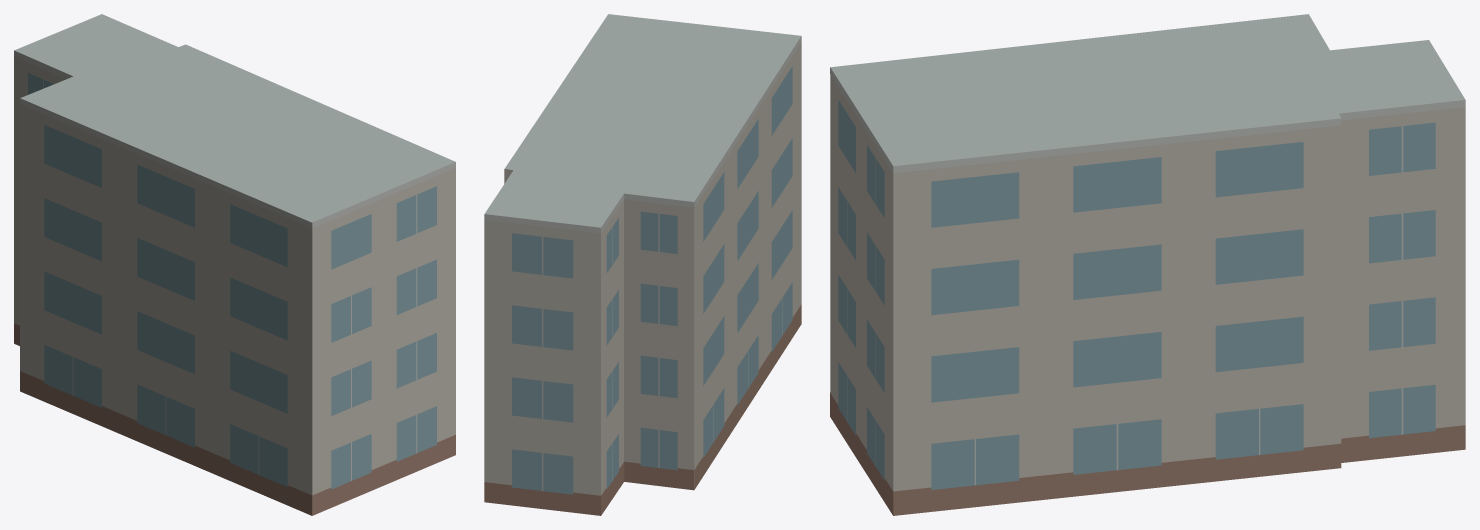
File: survey-upis-33008076.glb
The picture shows the model from 3 angles, left to right: view 1: azimuth 30°, elevation 25°; view 2: azimuth 150°, elevation 25°; view 3: azimuth 270°, elevation 25°; orthographic projection. The views are drawn at different scales.
Parts seen in each view (by area): view 1: survey-upis-33008076.tmp; view 2: survey-upis-33008076.tmp; view 3: survey-upis-33008076.tmp.
Boxes of the visible parts, <box> form: survey-upis-33008076.tmp: <box>14,14,455,515</box>; survey-upis-33008076.tmp: <box>484,14,801,515</box>; survey-upis-33008076.tmp: <box>830,14,1465,515</box>.
Size of the model in its own units: 11.4 by 12.2 by 20.1.
